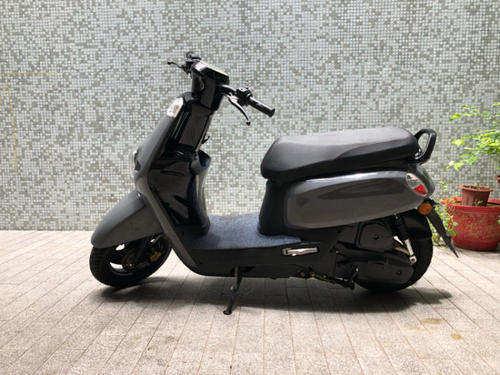motor: (85, 46, 446, 302)
